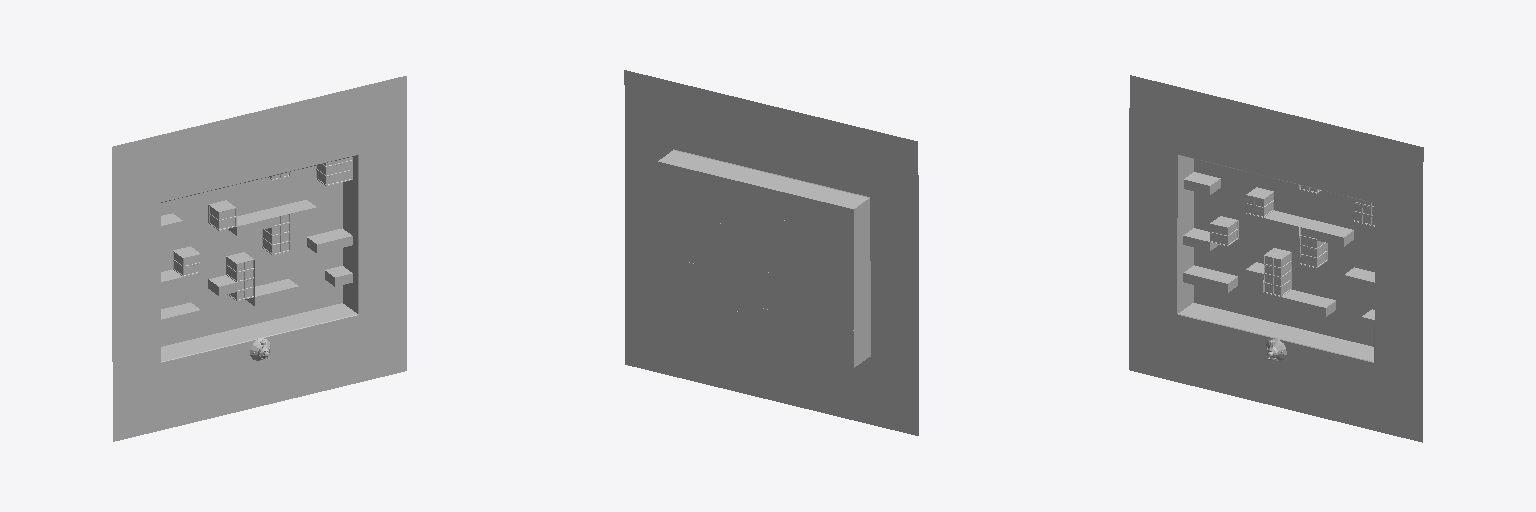
File: Bomberman Battle.obj
The picture shows the model from 3 angles: view 1: azimuth 30°, elevation 25°; view 2: azimuth 150°, elevation 25°; view 3: azimuth 330°, elevation 25°; orthographic projection.
Visible parts, largest first — view 1: Inst3D_RefRep.243, Inst3D_RefRep.245, Inst3D_RefRep.247, Inst3D_RefRep.249, Inst3D_RefRep.261, Inst3D_RefRep.251, Inst3D_RefRep.253, Inst3D_RefRep.257, Inst3D_RefRep.259, Inst3D_RefRep.263, Inst3D_RefRep.255; view 2: Inst3D_RefRep.243, Inst3D_RefRep.245, Inst3D_RefRep.247; view 3: Inst3D_RefRep.243, Inst3D_RefRep.247, Inst3D_RefRep.245, Inst3D_RefRep.249, Inst3D_RefRep.261, Inst3D_RefRep.251, Inst3D_RefRep.257, Inst3D_RefRep.253, Inst3D_RefRep.259, Inst3D_RefRep.263, Inst3D_RefRep.255.
Boxes of the visible parts, x1=… form: Inst3D_RefRep.243: x1=112, y1=76, x2=406, y2=441; Inst3D_RefRep.245: x1=161, y1=168, x2=342, y2=345; Inst3D_RefRep.247: x1=161, y1=166, x2=342, y2=346; Inst3D_RefRep.249: x1=183, y1=157, x2=352, y2=300; Inst3D_RefRep.261: x1=173, y1=163, x2=349, y2=300; Inst3D_RefRep.251: x1=161, y1=202, x2=343, y2=319; Inst3D_RefRep.253: x1=161, y1=210, x2=343, y2=328; Inst3D_RefRep.257: x1=161, y1=200, x2=351, y2=318; Inst3D_RefRep.259: x1=161, y1=207, x2=352, y2=327; Inst3D_RefRep.263: x1=161, y1=204, x2=351, y2=315; Inst3D_RefRep.255: x1=161, y1=212, x2=352, y2=325; Inst3D_RefRep.243: x1=624, y1=70, x2=918, y2=435; Inst3D_RefRep.245: x1=658, y1=164, x2=853, y2=367; Inst3D_RefRep.247: x1=658, y1=162, x2=853, y2=365; Inst3D_RefRep.243: x1=1129, y1=75, x2=1423, y2=442; Inst3D_RefRep.247: x1=1194, y1=159, x2=1374, y2=345; Inst3D_RefRep.245: x1=1194, y1=161, x2=1374, y2=346; Inst3D_RefRep.249: x1=1210, y1=185, x2=1374, y2=296; Inst3D_RefRep.261: x1=1210, y1=185, x2=1374, y2=296; Inst3D_RefRep.251: x1=1184, y1=176, x2=1374, y2=318; Inst3D_RefRep.257: x1=1183, y1=174, x2=1374, y2=319; Inst3D_RefRep.253: x1=1183, y1=184, x2=1369, y2=327; Inst3D_RefRep.259: x1=1183, y1=182, x2=1374, y2=328; Inst3D_RefRep.263: x1=1184, y1=172, x2=1374, y2=303; Inst3D_RefRep.255: x1=1184, y1=180, x2=1374, y2=312.
Size of the model in its own units: 3.3 by 3.17 by 0.472.